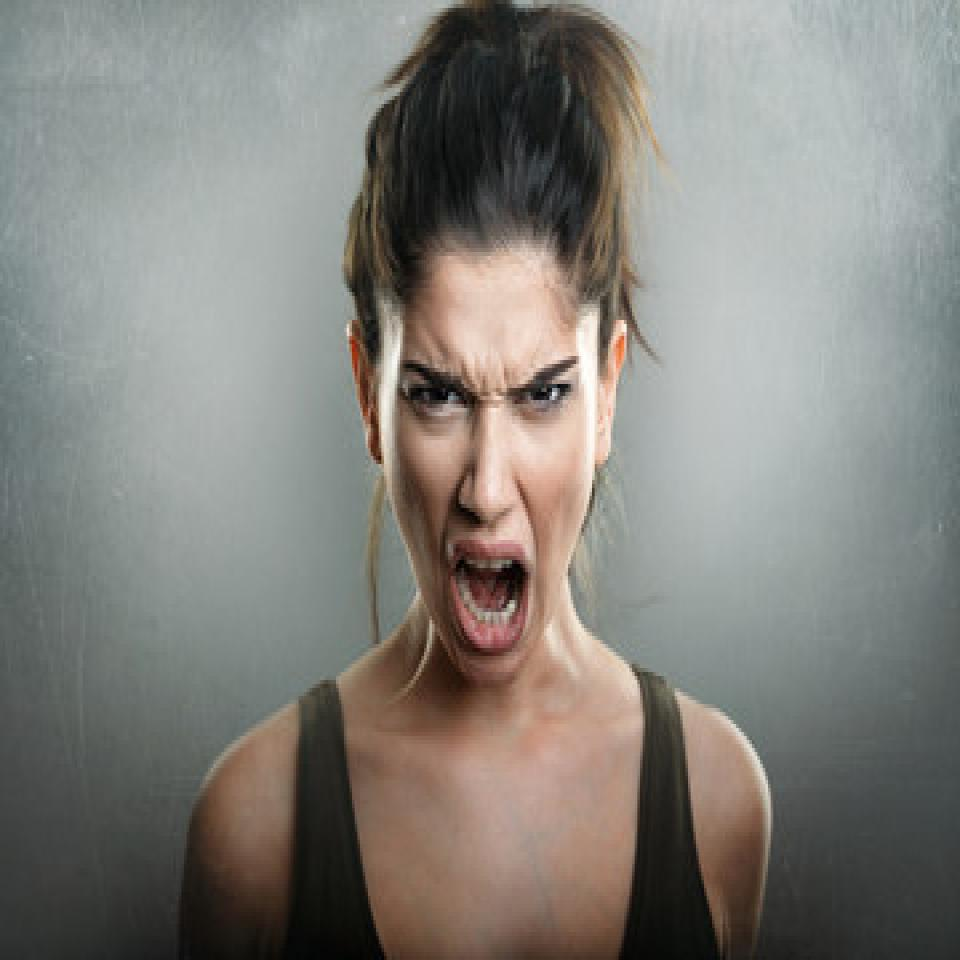Anger: (384, 230, 597, 682)
